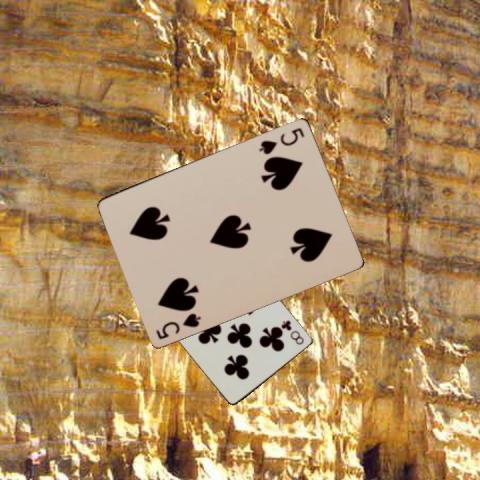5s: (256, 124, 306, 156), (153, 309, 203, 341)
8c: (279, 317, 305, 346)
